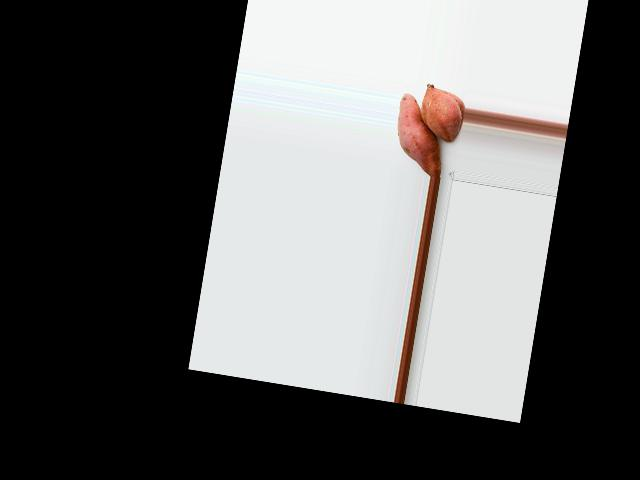sweet_potato: (420, 83, 462, 140)
